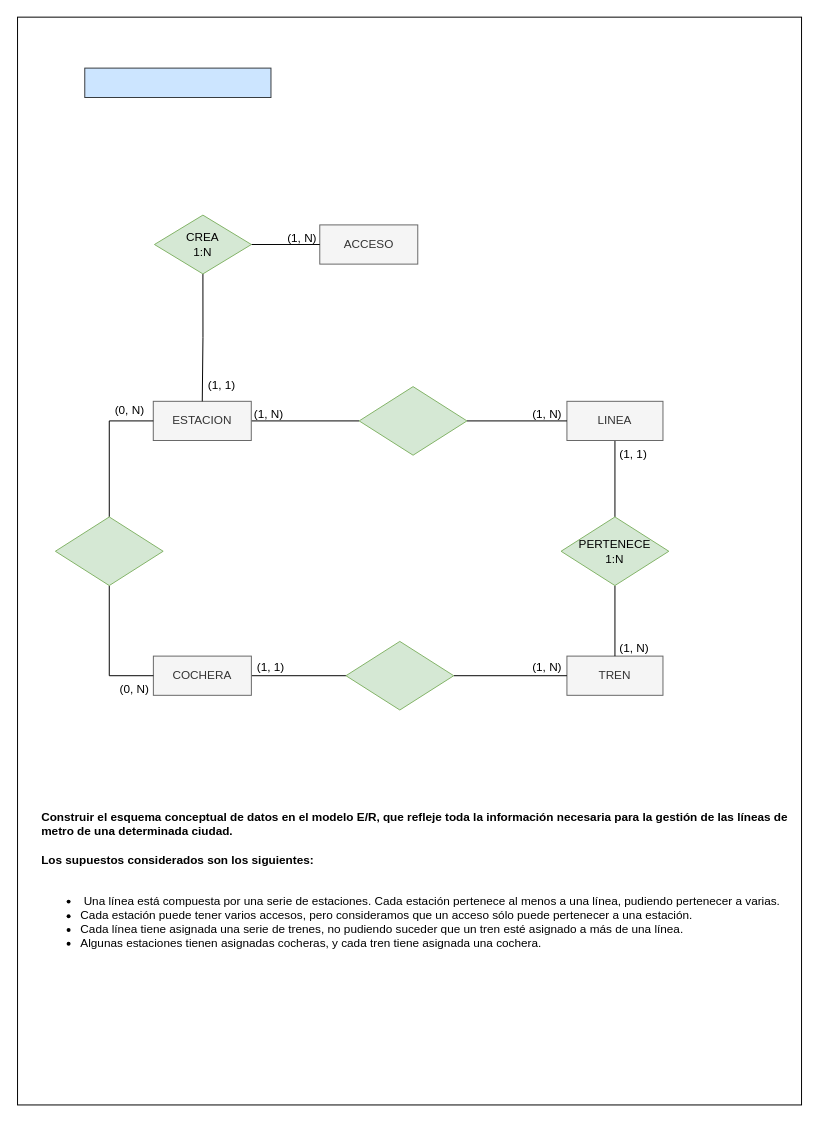
Some shapes in this 828 by 1132 pixel diagram are drawn without their labels. Each missing label, with the centre of its shape:
"ASIGNA 1:N" belongs at (399,675).
"COMPONE N:N" belongs at (412,420).
"EJER. 15 - LÍNEAS METRO" belongs at (177,82).
"HAY N:N" belongs at (108,551).
